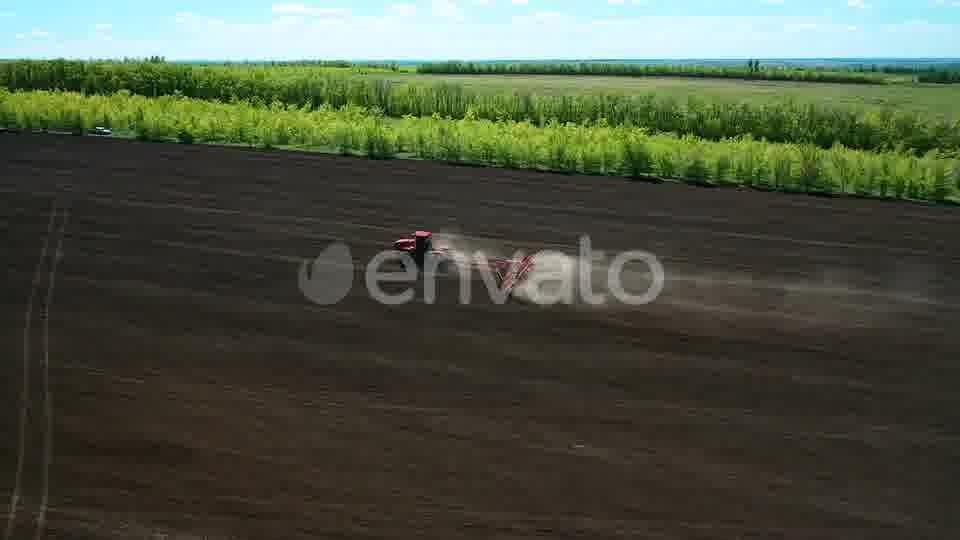tractor: (392, 228, 447, 270)
